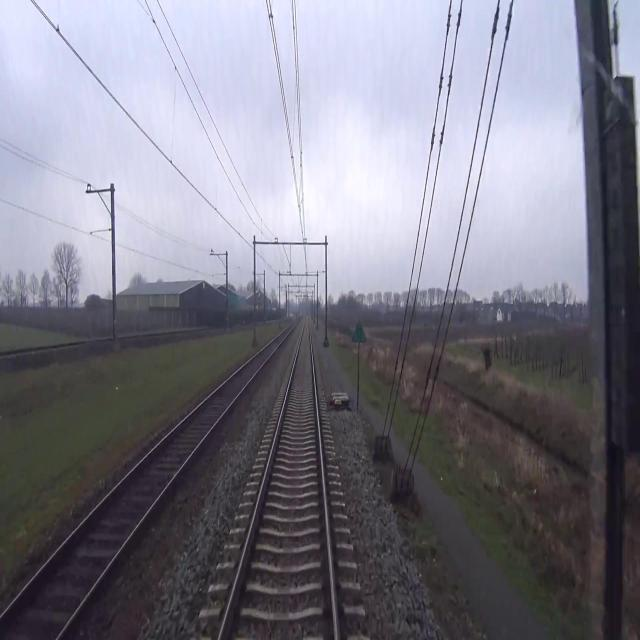rail-track: (0, 330, 288, 639), (222, 317, 333, 639)
